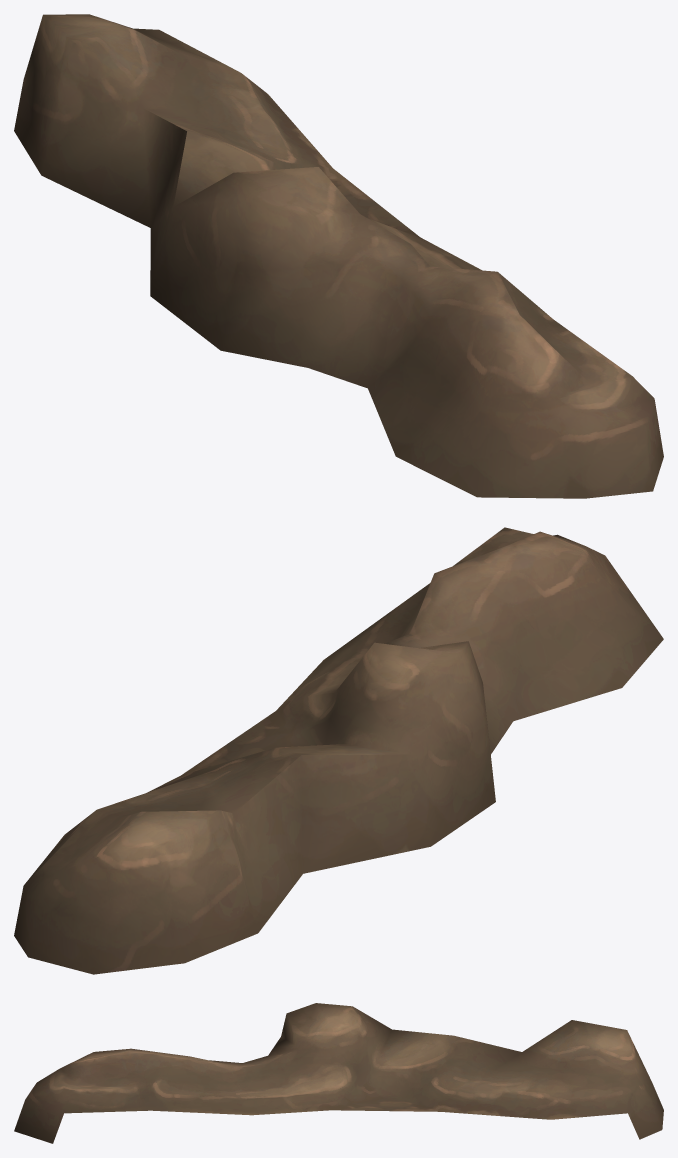
File: dm_rock_04.fbx
3 renders of one model, top to bottom at view 1: azimuth 30°, elevation 25°; view 2: azimuth 150°, elevation 25°; view 3: azimuth 270°, elevation 25°, orthographic. The views are drawn at different scales.
Parts seen in each view (by area): view 1: dm_rock_04; view 2: dm_rock_04; view 3: dm_rock_04.
Boxes of the visible parts, <box> form: dm_rock_04: <box>14,14,663,498</box>; dm_rock_04: <box>14,527,663,974</box>; dm_rock_04: <box>14,1003,663,1143</box>.
Size of the model in its own units: 0.6038 by 0.3475 by 2.31.
